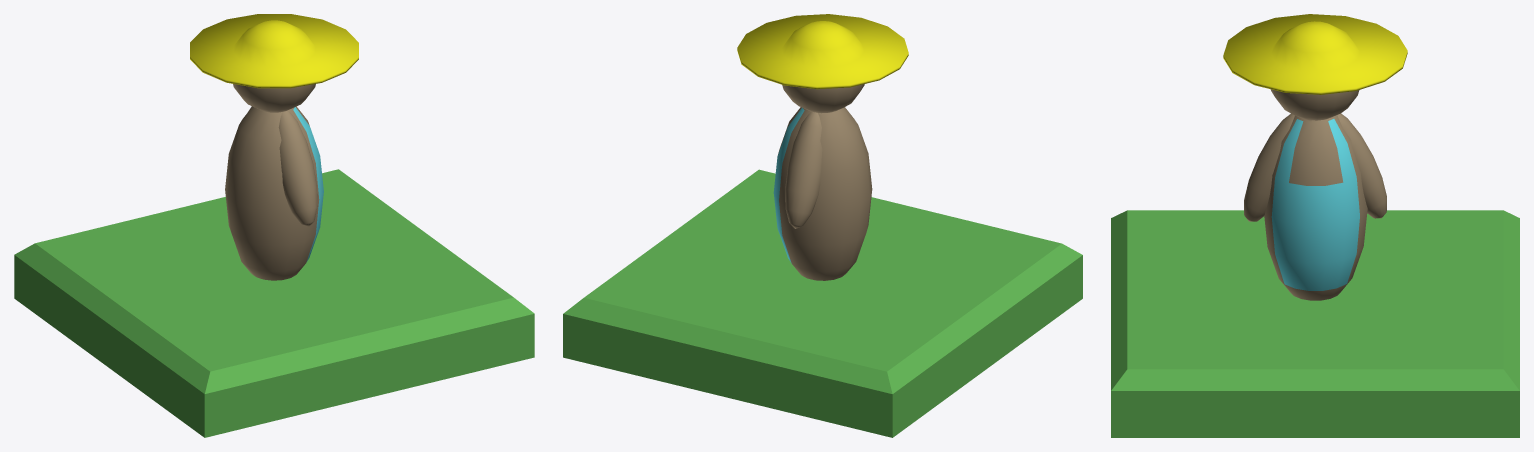
The model's file is QuestTile.fbx.
3 views of the same model, side by side, from view 1: azimuth 30°, elevation 25°; view 2: azimuth 150°, elevation 25°; view 3: azimuth 270°, elevation 25° (orthographic). The views are drawn at different scales.
Parts seen in each view (by area): view 1: Cube, Sphere, Sphere.001, Sphere.002; view 2: Cube, Sphere, Sphere.001, Sphere.003; view 3: Cube, Sphere.001, Sphere, Sphere.002, Sphere.003.
Boxes of the visible parts, left/top/right/bottom form: Cube: left=14, top=169, right=534, bottom=437; Sphere: left=190, top=14, right=358, bottom=112; Sphere.001: left=225, top=106, right=323, bottom=280; Sphere.002: left=278, top=110, right=317, bottom=226; Cube: left=563, top=169, right=1082, bottom=437; Sphere: left=737, top=14, right=908, bottom=113; Sphere.001: left=773, top=107, right=872, bottom=280; Sphere.003: left=785, top=111, right=822, bottom=228; Cube: left=1111, top=210, right=1519, bottom=437; Sphere.001: left=1264, top=115, right=1367, bottom=300; Sphere: left=1223, top=14, right=1407, bottom=120; Sphere.002: left=1244, top=113, right=1294, bottom=221; Sphere.003: left=1337, top=113, right=1386, bottom=218.
Bounding box in the file's own units: 600 × 527 × 600.
